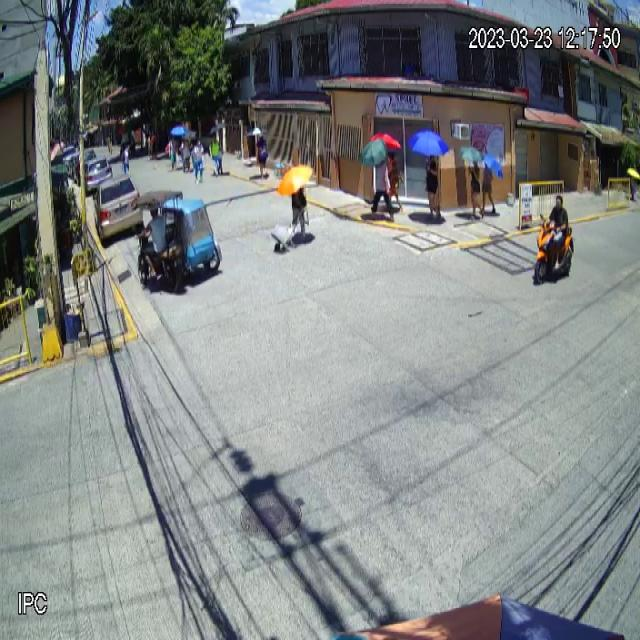Car: (93, 175, 143, 241)
Motorcycle: (534, 214, 574, 287)
Tricycle: (134, 190, 223, 294)
